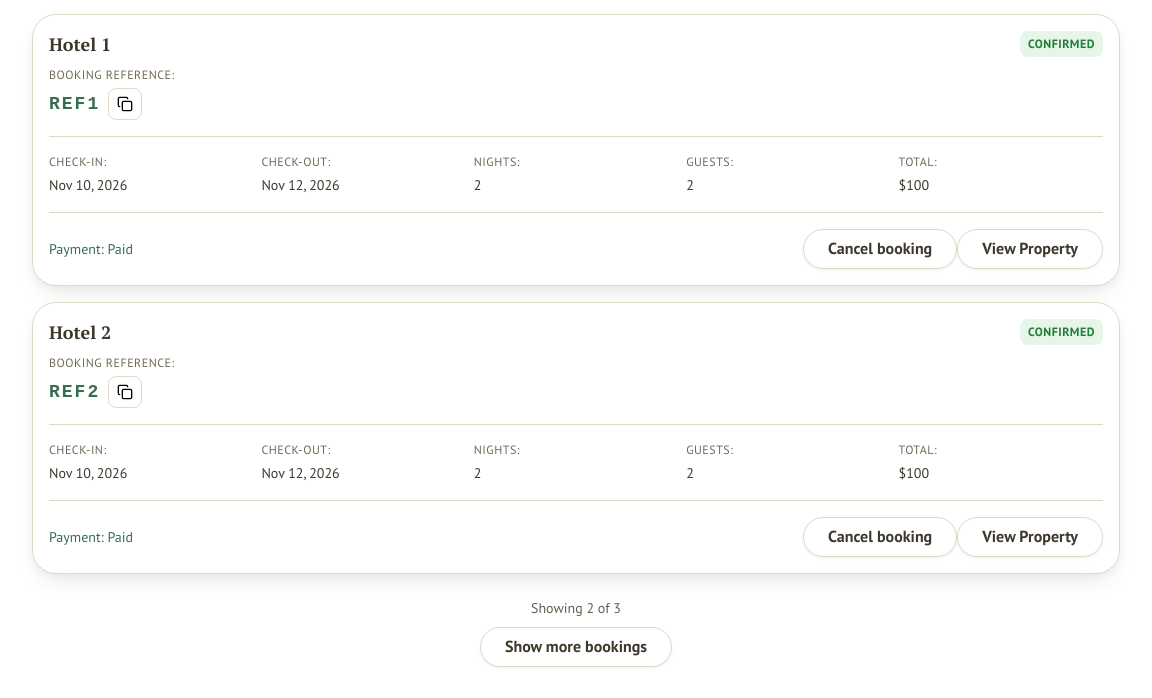
Test: BookingsPage pages › keeps the list and offers a retry when the next page fails
(page scrolled)
expect the link "Hotel 1" is shown: met, box [49,32,111,56]
Click the button "Show more bookings".
click(576, 647)  # box [480,627,672,667]
(page scrolled)
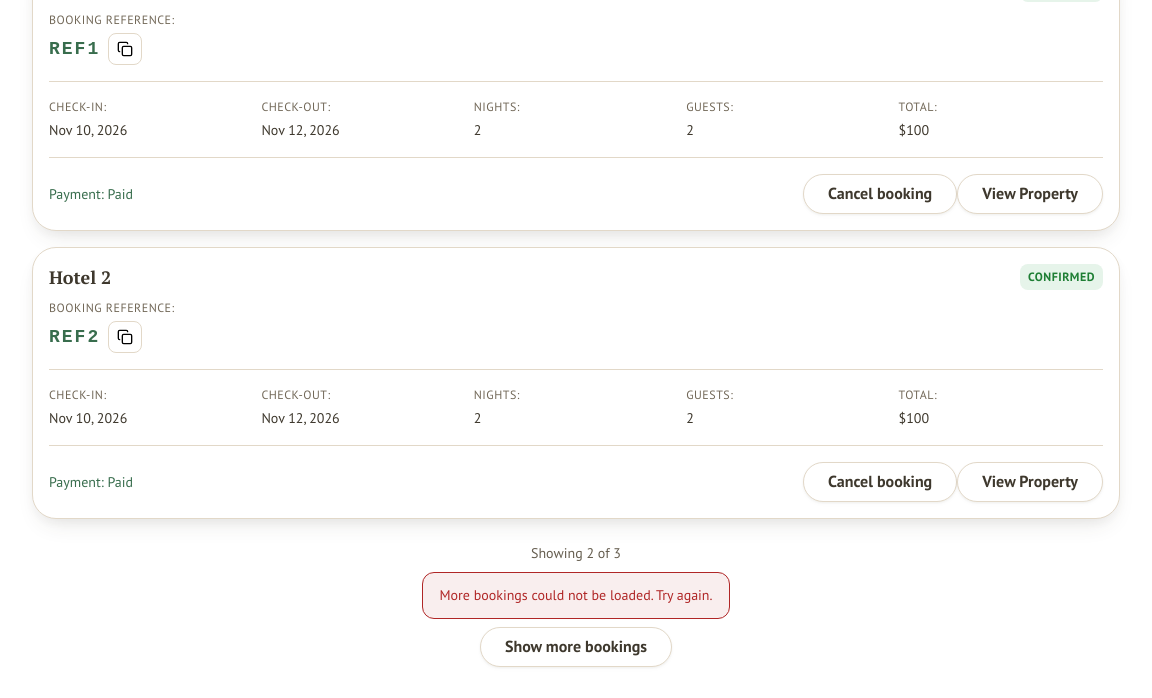
expect the message shows "More bookings could not be loaded": met, box [440,586,712,604]
Click the button "Show more bookings".
click(576, 647)  # box [480,627,672,667]
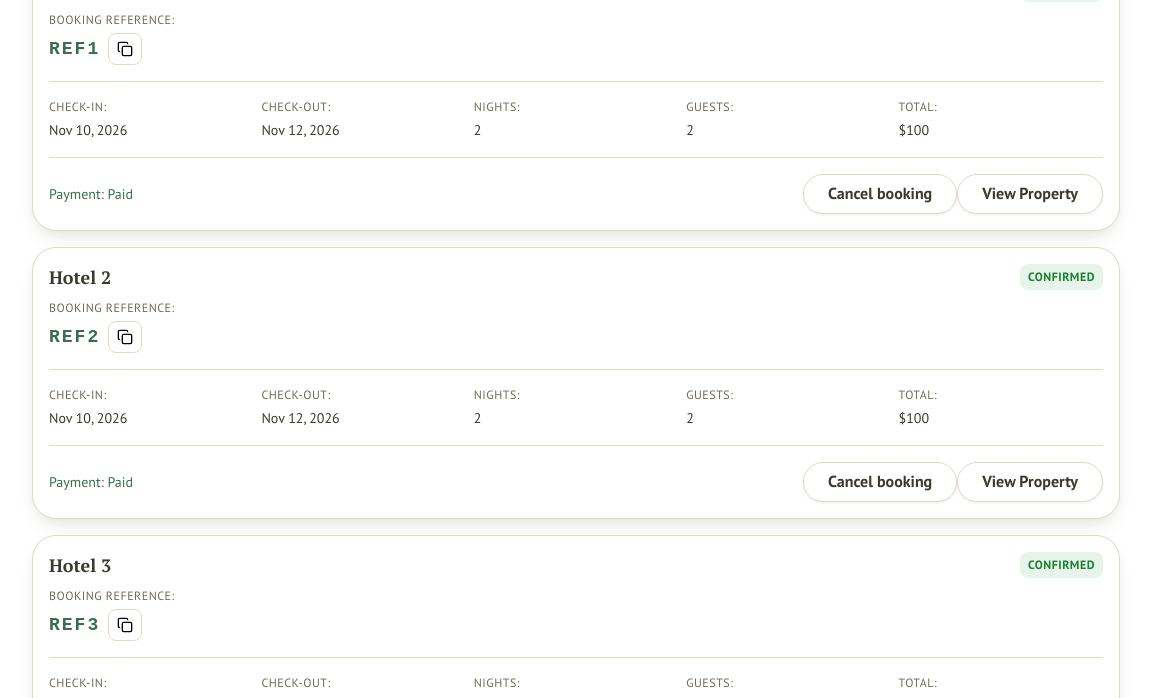
expect the link "Hotel 3" is shown: met, box [49,553,111,577]
expect the message "More bookings could not be loaded. Try again." is gone: met
